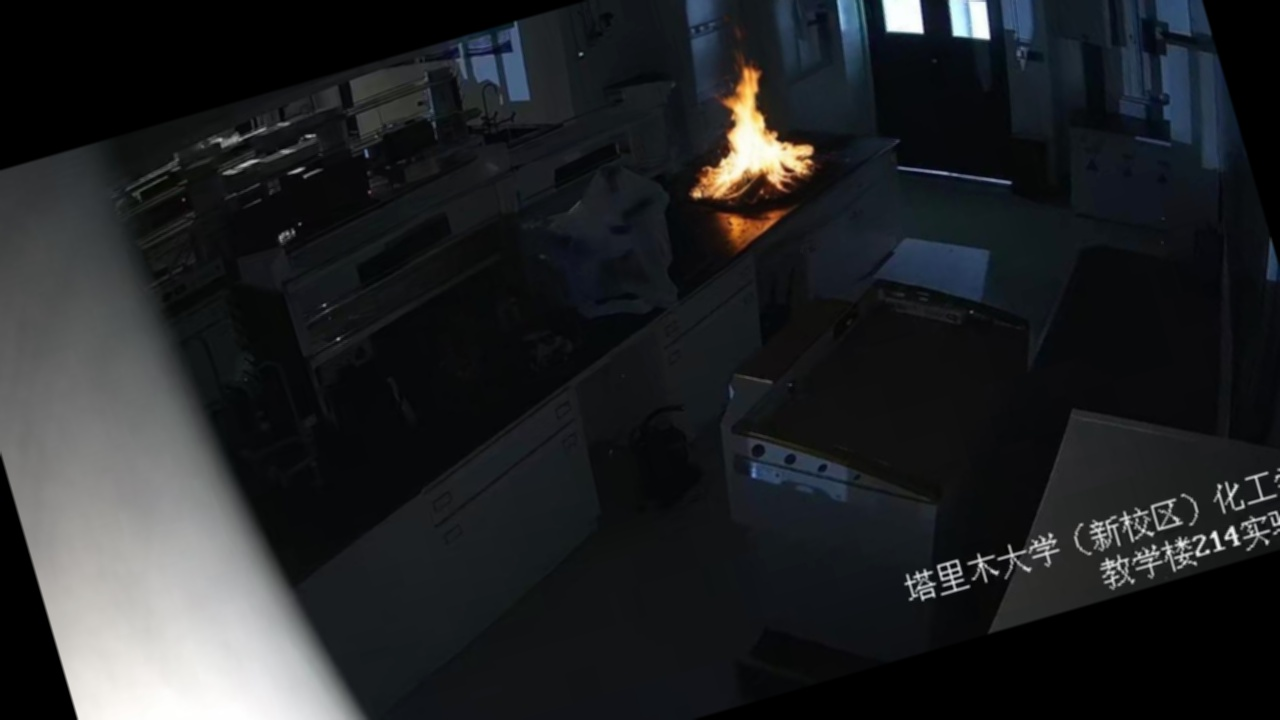fire: (632, 6, 873, 263)
